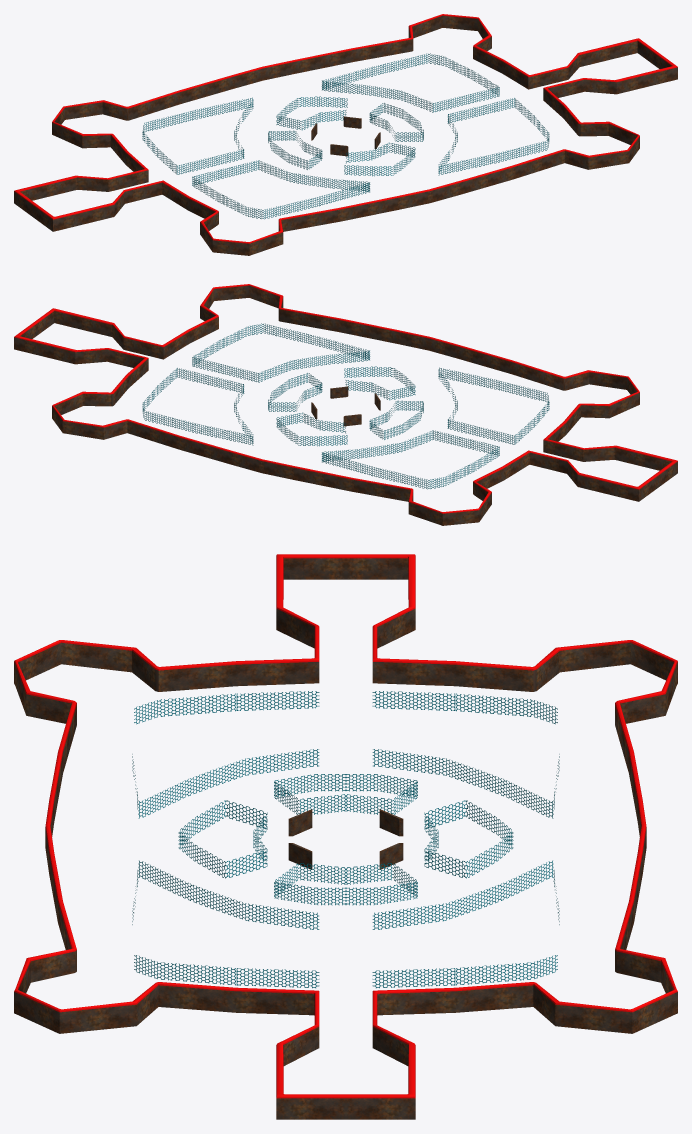
The model's file is NewMap.FBX.
3 renders of one model, top to bottom at view 1: azimuth 30°, elevation 25°; view 2: azimuth 150°, elevation 25°; view 3: azimuth 270°, elevation 25°, orthographic. The views are drawn at different scales.
Visible parts, largest first — view 1: Line001; view 2: Line001; view 3: Line001.
Boxes of the visible parts, x1,y1,x2,y2 form: Line001: (14,14,677,255); Line001: (14,284,677,525); Line001: (14,554,677,1119).
Size of the model in its own units: 20711 by 422 by 10704.
